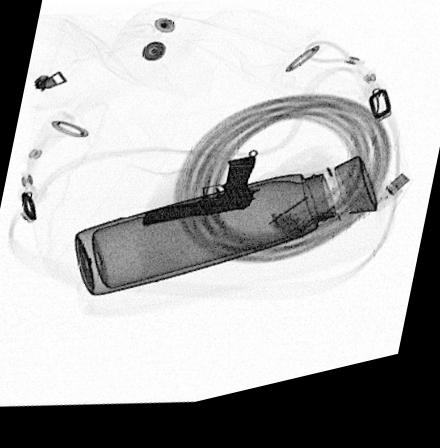Gun: (140, 166, 260, 233)
